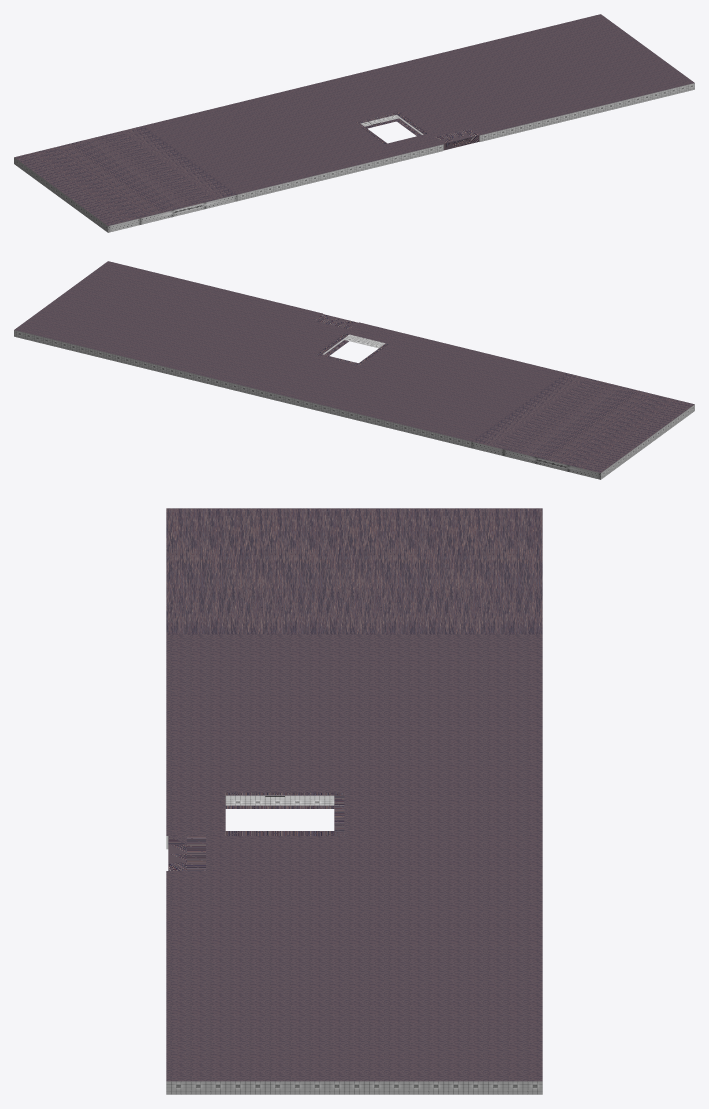
File: ceiling2.glb
3 views of the same model, one above another, from view 1: azimuth 30°, elevation 25°; view 2: azimuth 150°, elevation 25°; view 3: azimuth 270°, elevation 25° (orthographic). The views are drawn at different scales.
Visible parts, largest first — view 1: ceiling; view 2: ceiling; view 3: ceiling.
Part boxes in pixels (x1,y1,x2,y2): ceiling: [14, 14, 694, 232]; ceiling: [14, 261, 694, 479]; ceiling: [166, 508, 542, 1094].
Bounding box in the file's own units: 50.24 × 0.55 × 13.95.
Materials: 4 (3 with a texture image).
